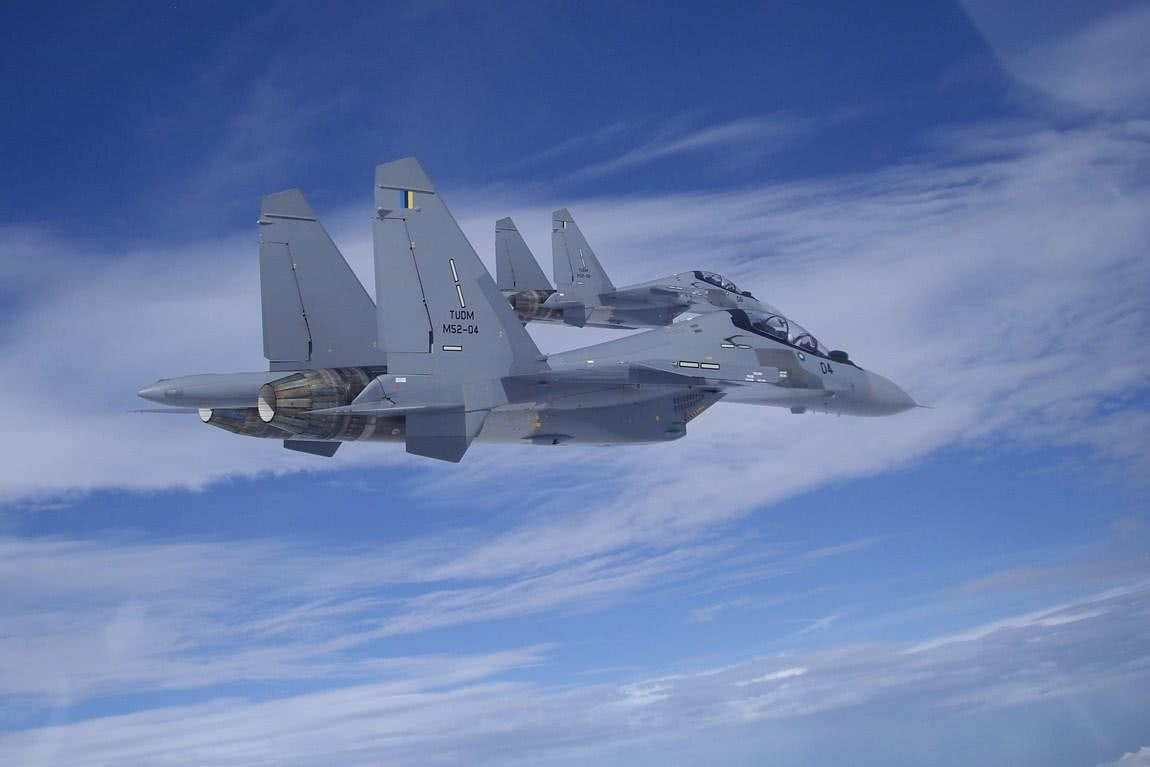airplane: (125, 193, 925, 457), (460, 199, 825, 340)
